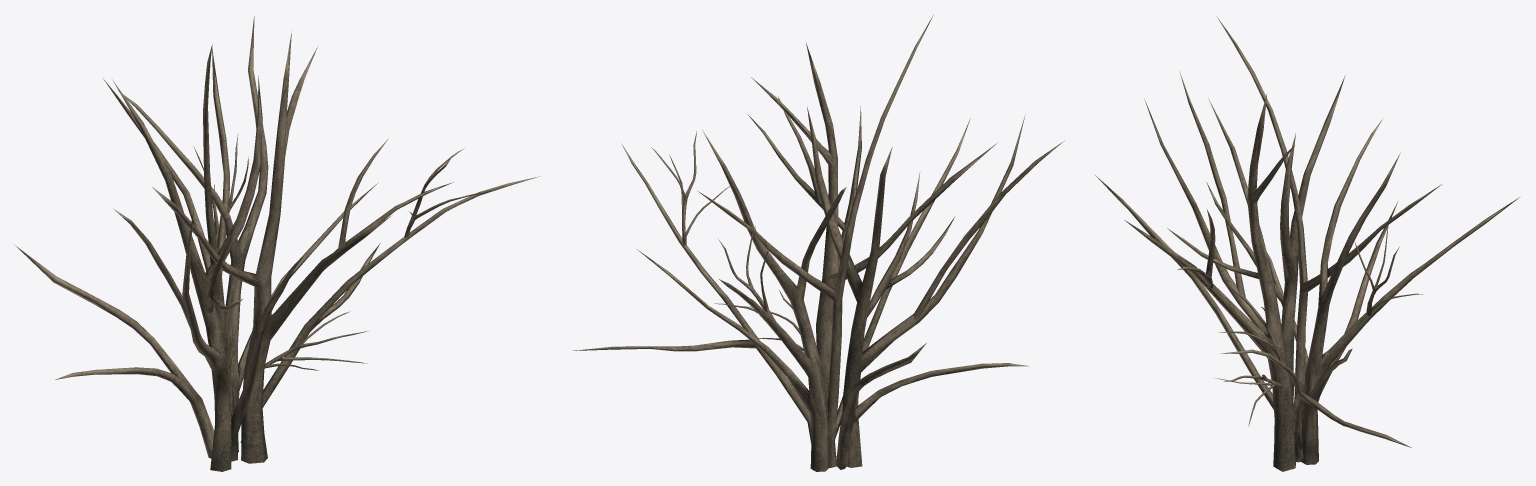
File: Bush_02.fbx
The picture shows the model from 3 angles, left to right: view 1: azimuth 30°, elevation 25°; view 2: azimuth 150°, elevation 25°; view 3: azimuth 270°, elevation 25°; orthographic projection. The views are drawn at different scales.
Visible parts, largest first — view 1: bush_02; view 2: bush_02; view 3: bush_02.
Boxes of the visible parts, x1,y1,x2,y2 form: bush_02: [15, 16, 539, 471]; bush_02: [573, 15, 1064, 471]; bush_02: [1094, 16, 1519, 471].
Bounding box in the file's own units: 119 × 114 × 106.
1 material, 1 textured.
